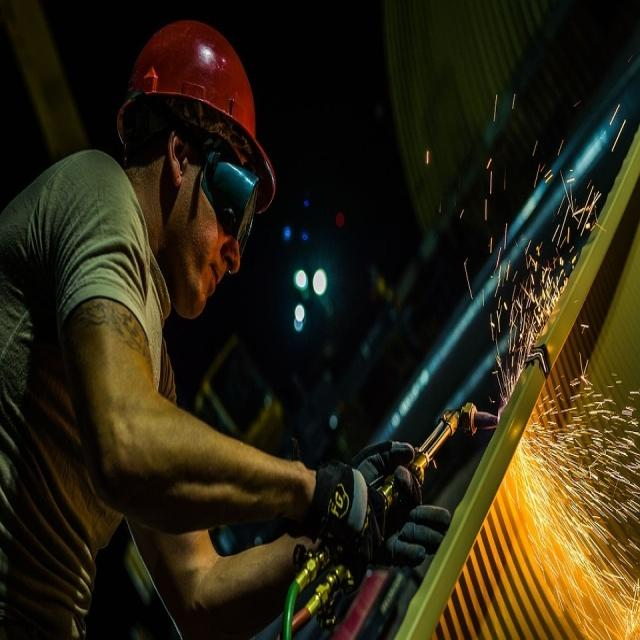helmet: (115, 28, 270, 427)
